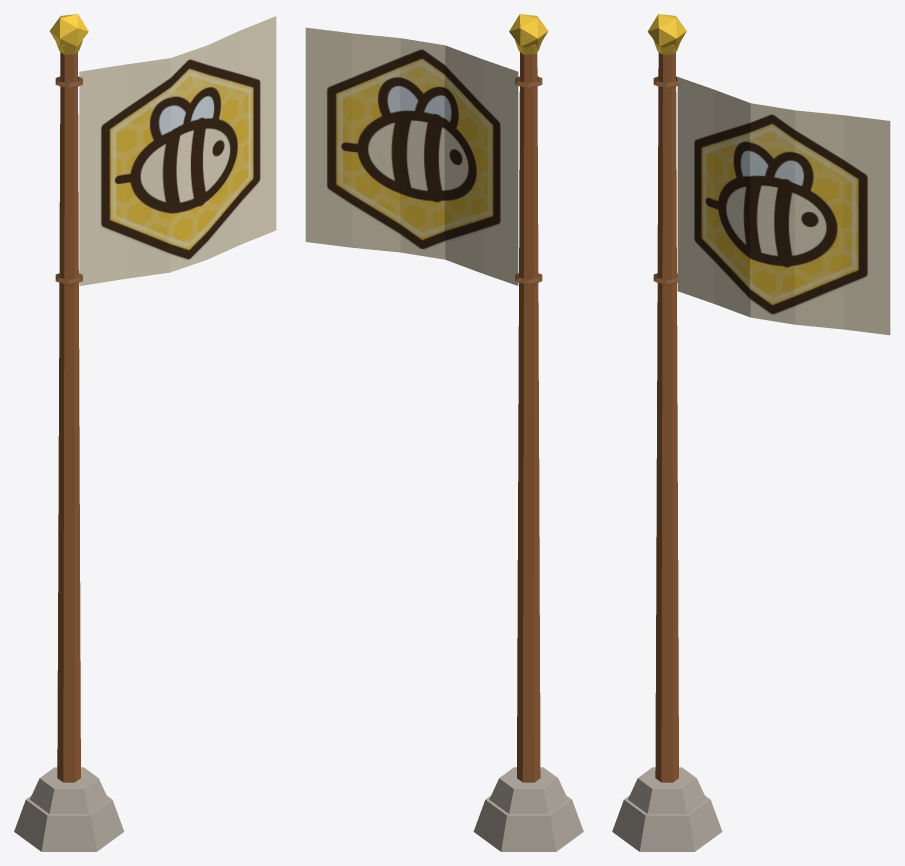
Rendered from colony-flag.glb.
The picture shows the model from 3 angles, left to right: view 1: azimuth 30°, elevation 25°; view 2: azimuth 150°, elevation 25°; view 3: azimuth 330°, elevation 25°; orthographic projection.
Visible parts, largest first — view 1: banner, pole; view 2: banner, pole; view 3: banner, pole.
Boxes of the visible parts, box(x1,y1,x2,y2) form: banner: box(79, 16, 276, 285); pole: box(14, 14, 124, 851); banner: box(305, 27, 518, 285); pole: box(473, 14, 583, 851); banner: box(677, 77, 890, 335); pole: box(612, 14, 722, 851).
Bounding box in the file's own units: 0.7512 × 2.28 × 0.28.
6 materials, 1 textured.
